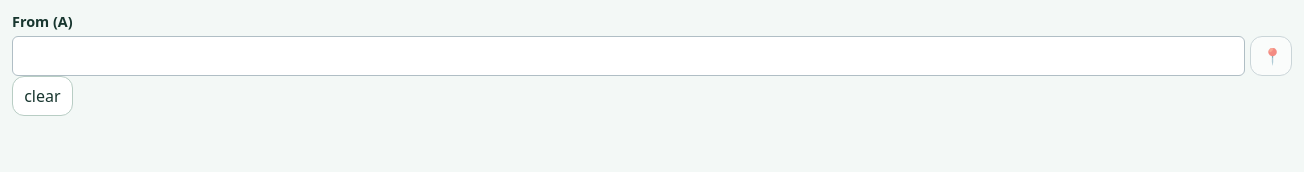
Test: AddressInput › hides old-city results immediately and ignores a late response after switching cities
This screenshot has width=1304, height=172.
Later steps or results of the test are not shown.
Step 1. Type "Rynek" into the dropdown → (628, 56), box [12, 36, 1245, 76]
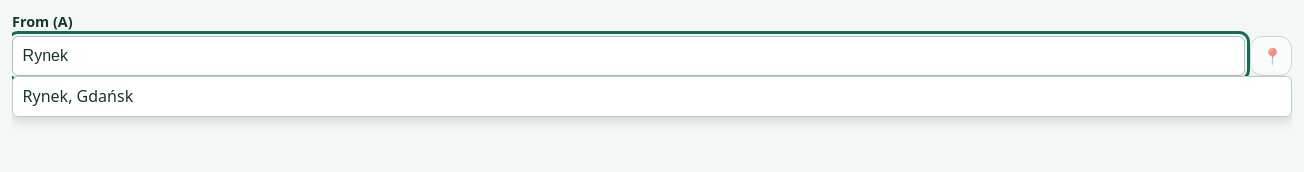
Result: the option reads "Rynek, Gdańsk" at [23, 85, 133, 107]
